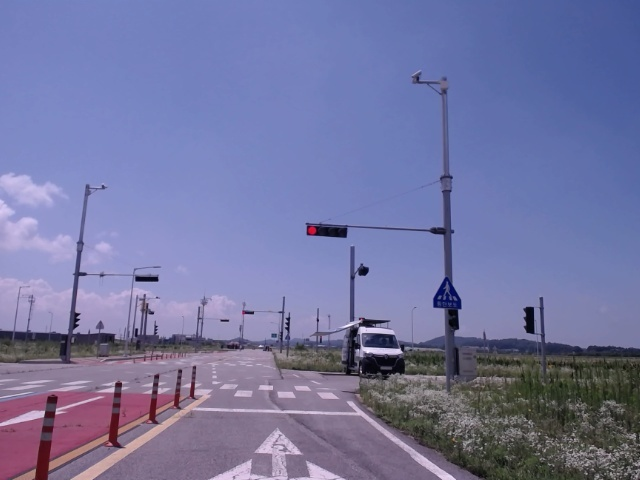red_4: (307, 225, 347, 238)
